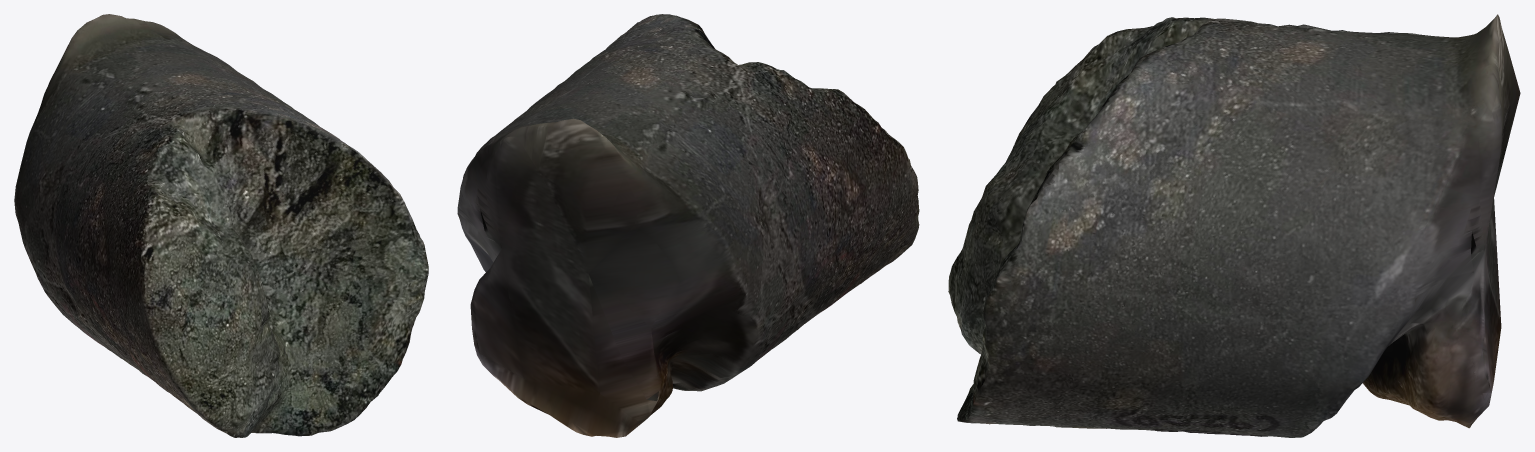
Rendered from PECLD07758 T7.glb.
3 renders of one model, left to right at view 1: azimuth 30°, elevation 25°; view 2: azimuth 150°, elevation 25°; view 3: azimuth 270°, elevation 25°, orthographic. The views are drawn at different scales.
Parts seen in each view (by area): view 1: baked_mesh; view 2: baked_mesh; view 3: baked_mesh.
Part boxes in pixels (x1,y1,x2,y2): baked_mesh: [14, 14, 428, 437]; baked_mesh: [457, 14, 919, 437]; baked_mesh: [948, 14, 1520, 437].
Size of the model in its own units: 0.2636 by 0.2714 by 0.3575.
1 material, 1 textured.
